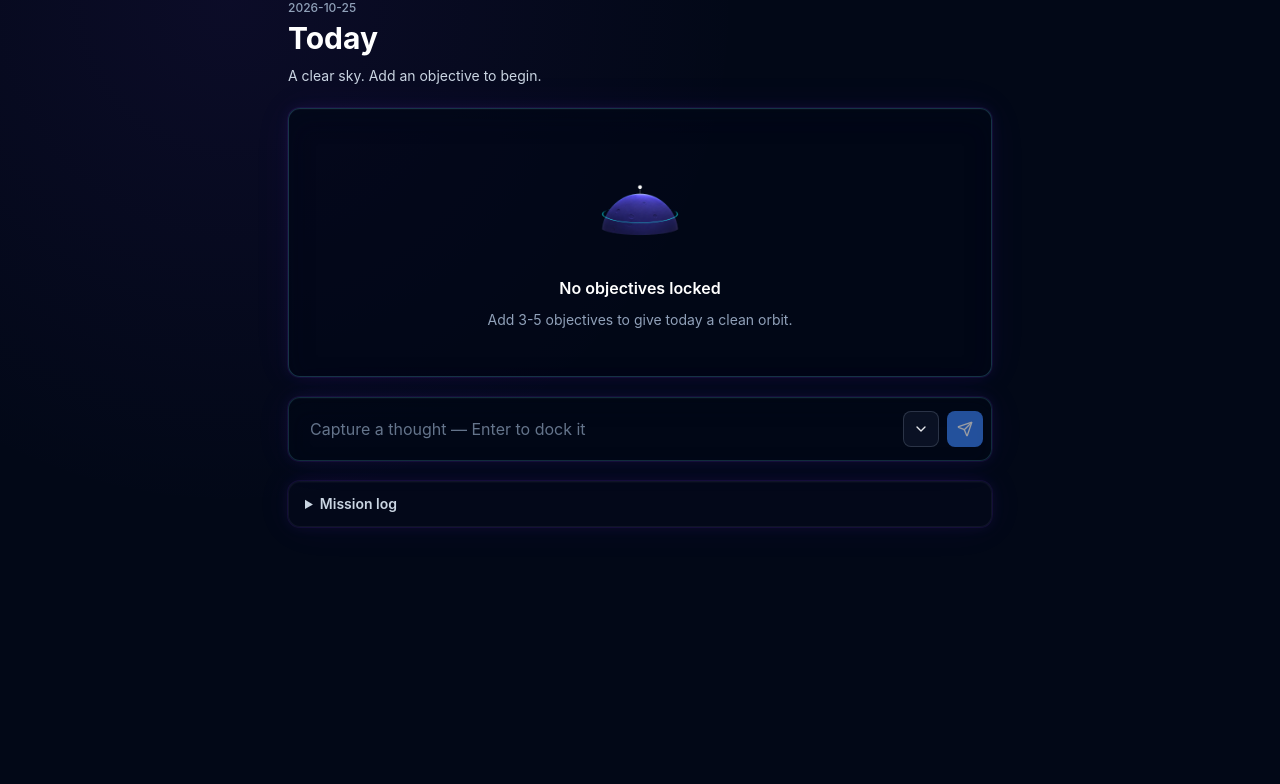
Test: DailyMissionControlPage › renders focus and review panels with captured signals
What coordinates should you click on to do the following:
click the heading "Mission log"
I would click on:
 (358, 503)
Its box is [320, 495, 397, 512].
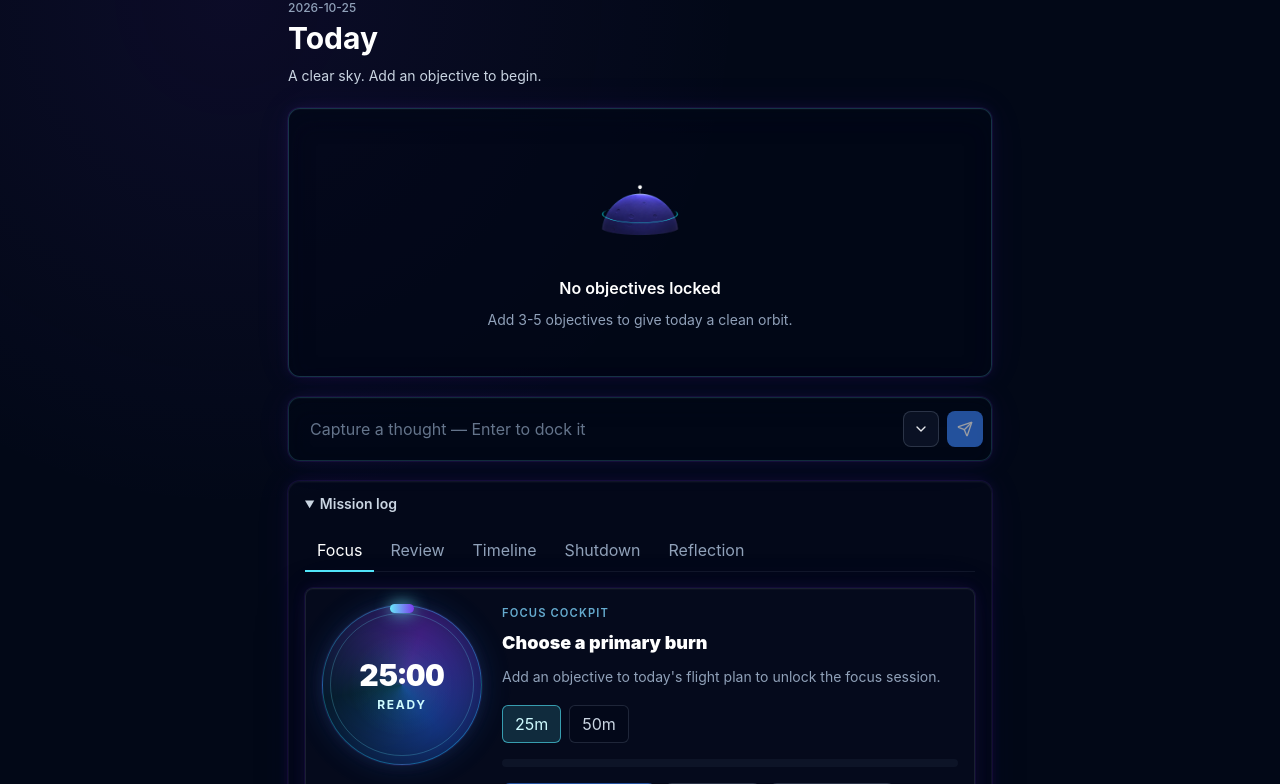
What coordinates should you click on to do the following:
click the tab "Review"
I would click on:
 (418, 551)
Its box is [378, 530, 457, 572].
(page scrolled)
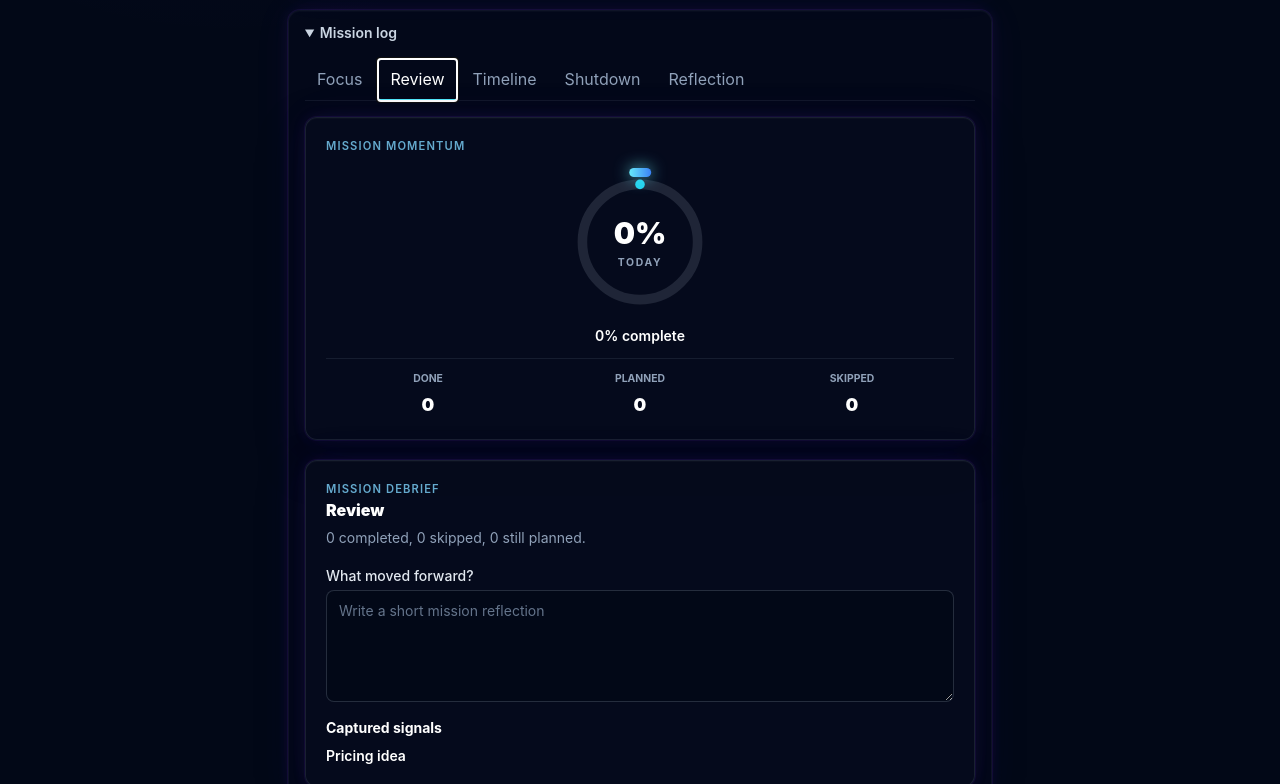
Expected: the text "Mission Debrief" is shown, [326, 482, 440, 496]
Expected: the text "Pricing idea" is shown, [326, 746, 406, 766]
